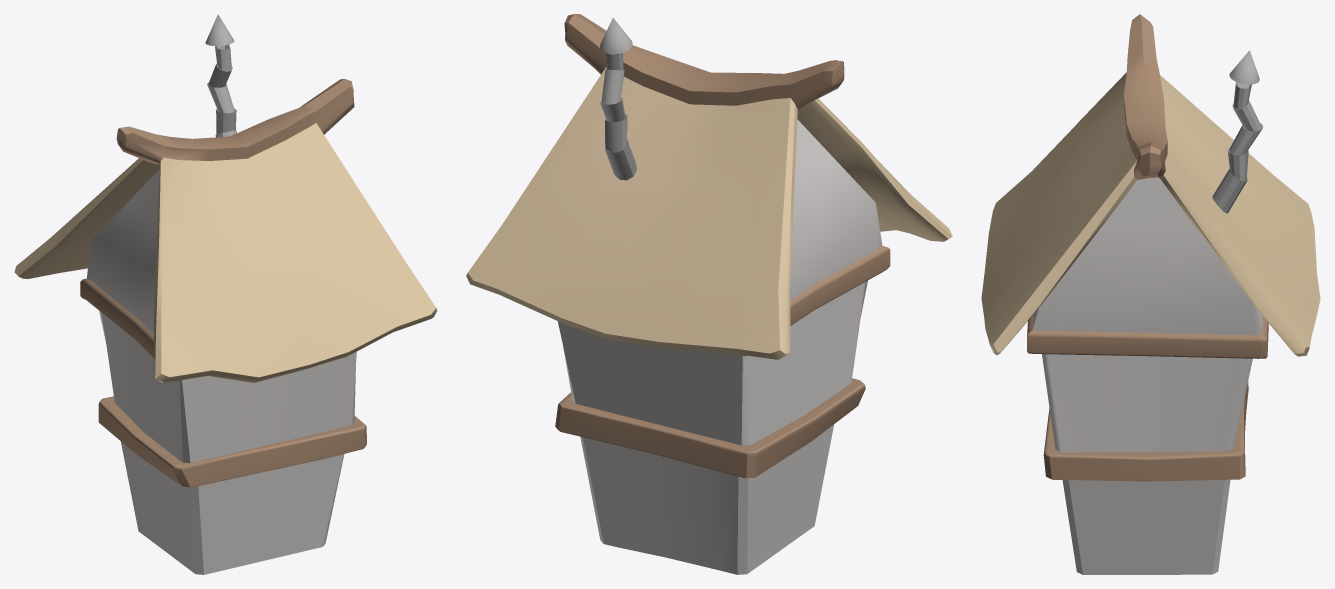
Rendered from Mod_House01.fbx.
3 renders of one model, left to right at view 1: azimuth 30°, elevation 25°; view 2: azimuth 150°, elevation 25°; view 3: azimuth 270°, elevation 25°, orthographic. The views are drawn at different scales.
Parts seen in each view (by area): view 1: House_01; view 2: House_01; view 3: House_01.
Boxes of the visible parts, box(x1,y1,x2,y2) form: House_01: box(14, 14, 437, 574); House_01: box(466, 14, 952, 574); House_01: box(981, 14, 1320, 574).
Bounding box in the file's own units: 467 × 751 × 453.
